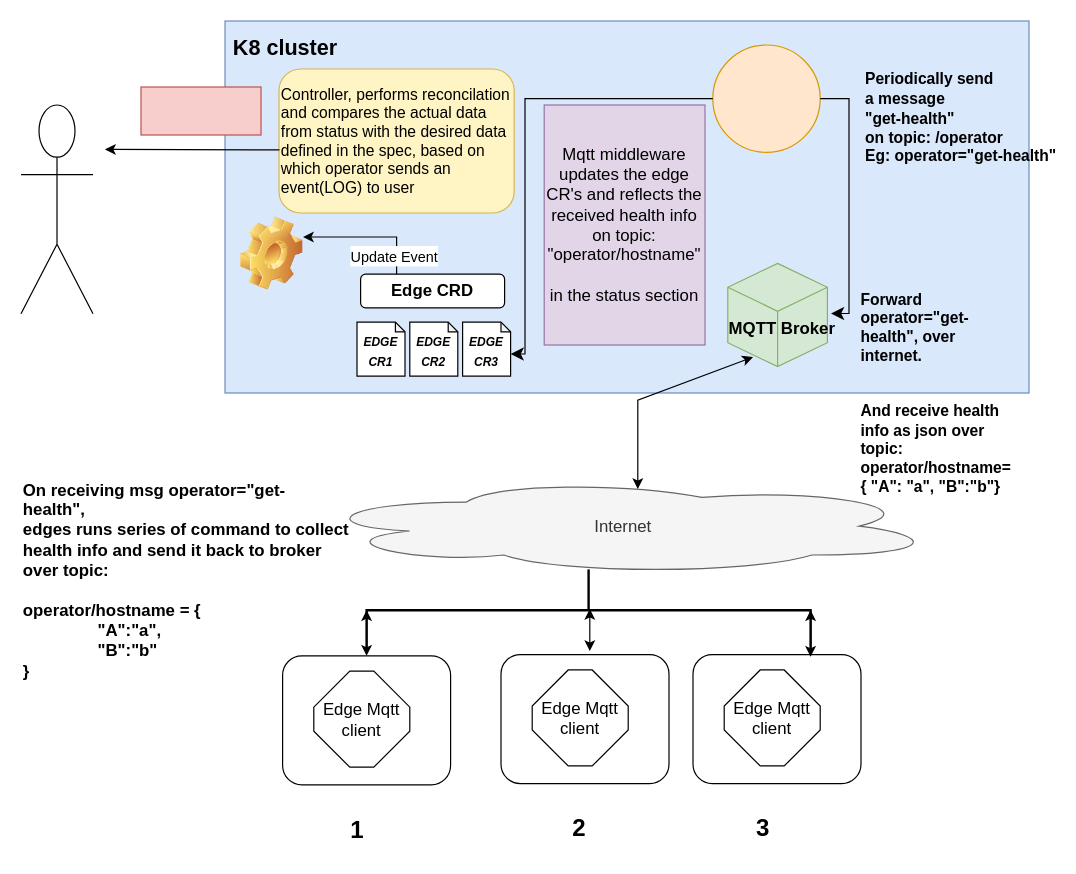
The diagram is 1076 pixels wide and 874 high, and some of its shapes have lost their labels. The box of each missing label's shape, as (x1, y1, x2, y2) in pixels:
Custom Controller: (240, 217, 302, 290)
Event (LOG): (140, 86, 261, 135)
Operator MQTT Middleware: (712, 44, 820, 152)
